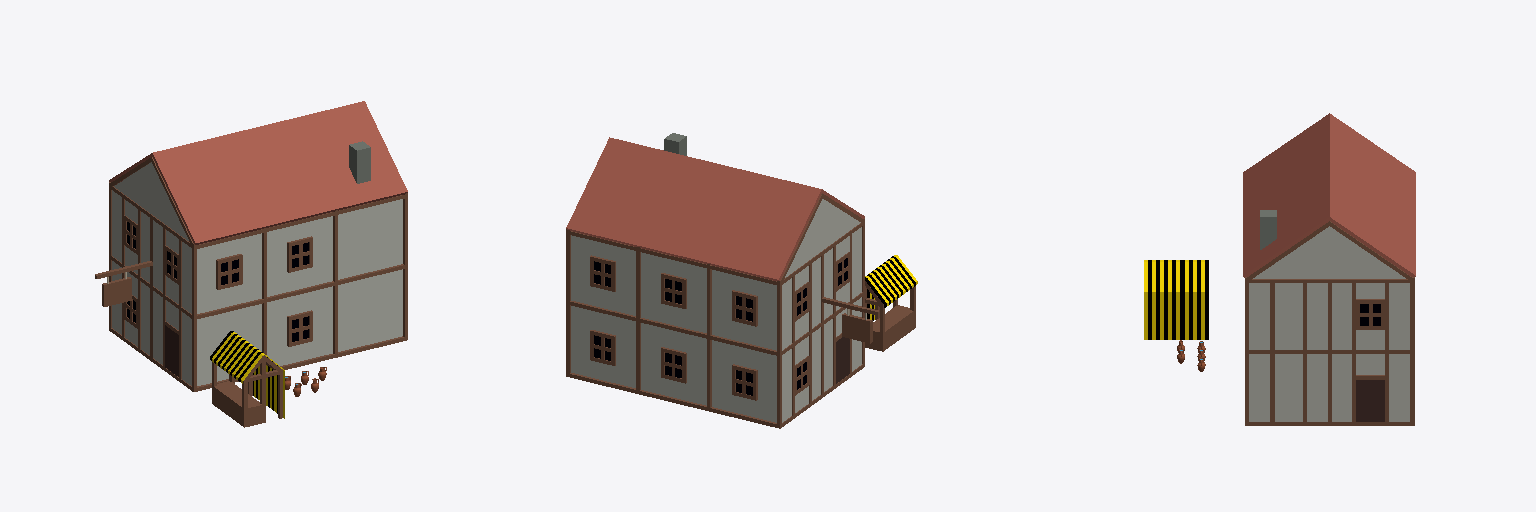
The model's file is timberframedpotter_black_yellow.obj.
The picture shows the model from 3 angles: view 1: azimuth 30°, elevation 25°; view 2: azimuth 150°, elevation 25°; view 3: azimuth 270°, elevation 25°; orthographic projection.
Visible parts, largest first — view 1: Cube.005, Cube.007_Cube.011, Cube.011_Cube.015, Cube.018_Cube.016, Cube.056_Cube.081, Cube.001_Cube.058, Cube.013_Cube.080, Cube.006_Cube.010, Cube.055_Cube.059, Cube.026_Cube.019, Cube.073_Cube.078, Cube.012_Cube.017 (+5 smaller); view 2: Cube.005, Cube.007_Cube.011, Cube.022_Cube.025, Cube.023_Cube.026, Cube.021_Cube.024, Cube.015_Cube.020, Cube.019_Cube.022, Cube.017_Cube.021, Cube.014_Cube.018, Cube.008, Cube.020_Cube.023, Cube.073_Cube.078 (+6 smaller); view 3: Cube.005, Cube.007_Cube.011, Cube.147_Cube.153, Cube.003, Cube.033, Cube.027, Cube.047_Cube.049, Cube.031, Cube.016_Cube.013, Cube.006_Cube.010, Cube.032, Cube.012_Cube.017 (+4 smaller).
Boxes of the visible parts, x1=… form: Cube.005: x1=112, y1=162, x2=402, y2=385; Cube.007_Cube.011: x1=109, y1=101, x2=407, y2=244; Cube.011_Cube.015: x1=195, y1=264, x2=404, y2=319; Cube.018_Cube.016: x1=195, y1=195, x2=406, y2=249; Cube.056_Cube.081: x1=216, y1=254, x2=242, y2=289; Cube.001_Cube.058: x1=287, y1=310, x2=312, y2=346; Cube.013_Cube.080: x1=287, y1=236, x2=312, y2=272; Cube.006_Cube.010: x1=349, y1=141, x2=370, y2=183; Cube.055_Cube.059: x1=195, y1=336, x2=406, y2=391; Cube.026_Cube.019: x1=192, y1=243, x2=196, y2=391; Cube.073_Cube.078: x1=102, y1=277, x2=131, y2=306; Cube.012_Cube.017: x1=403, y1=193, x2=407, y2=339; Cube.005: x1=571, y1=199, x2=861, y2=422; Cube.007_Cube.011: x1=566, y1=137, x2=864, y2=280; Cube.022_Cube.025: x1=567, y1=301, x2=778, y2=355; Cube.023_Cube.026: x1=567, y1=373, x2=776, y2=427; Cube.021_Cube.024: x1=570, y1=231, x2=776, y2=284; Cube.015_Cube.020: x1=732, y1=290, x2=757, y2=326; Cube.019_Cube.022: x1=661, y1=347, x2=686, y2=383; Cube.017_Cube.021: x1=590, y1=330, x2=615, y2=365; Cube.014_Cube.018: x1=661, y1=273, x2=686, y2=308; Cube.008: x1=590, y1=255, x2=615, y2=291; Cube.020_Cube.023: x1=732, y1=364, x2=757, y2=400; Cube.073_Cube.078: x1=842, y1=313, x2=872, y2=343; Cube.005: x1=1249, y1=226, x2=1409, y2=421; Cube.007_Cube.011: x1=1243, y1=113, x2=1415, y2=277; Cube.147_Cube.153: x1=1144, y1=292, x2=1208, y2=339; Cube.003: x1=1356, y1=380, x2=1384, y2=421; Cube.033: x1=1356, y1=299, x2=1384, y2=329; Cube.027: x1=1410, y1=277, x2=1414, y2=425; Cube.047_Cube.049: x1=1270, y1=279, x2=1274, y2=423; Cube.031: x1=1248, y1=422, x2=1410, y2=425; Cube.016_Cube.013: x1=1248, y1=350, x2=1410, y2=353; Cube.006_Cube.010: x1=1260, y1=210, x2=1276, y2=249; Cube.032: x1=1248, y1=279, x2=1410, y2=282; Cube.012_Cube.017: x1=1245, y1=277, x2=1248, y2=425.
Size of the model in its own units: 15.3 by 11.25 by 13.34.